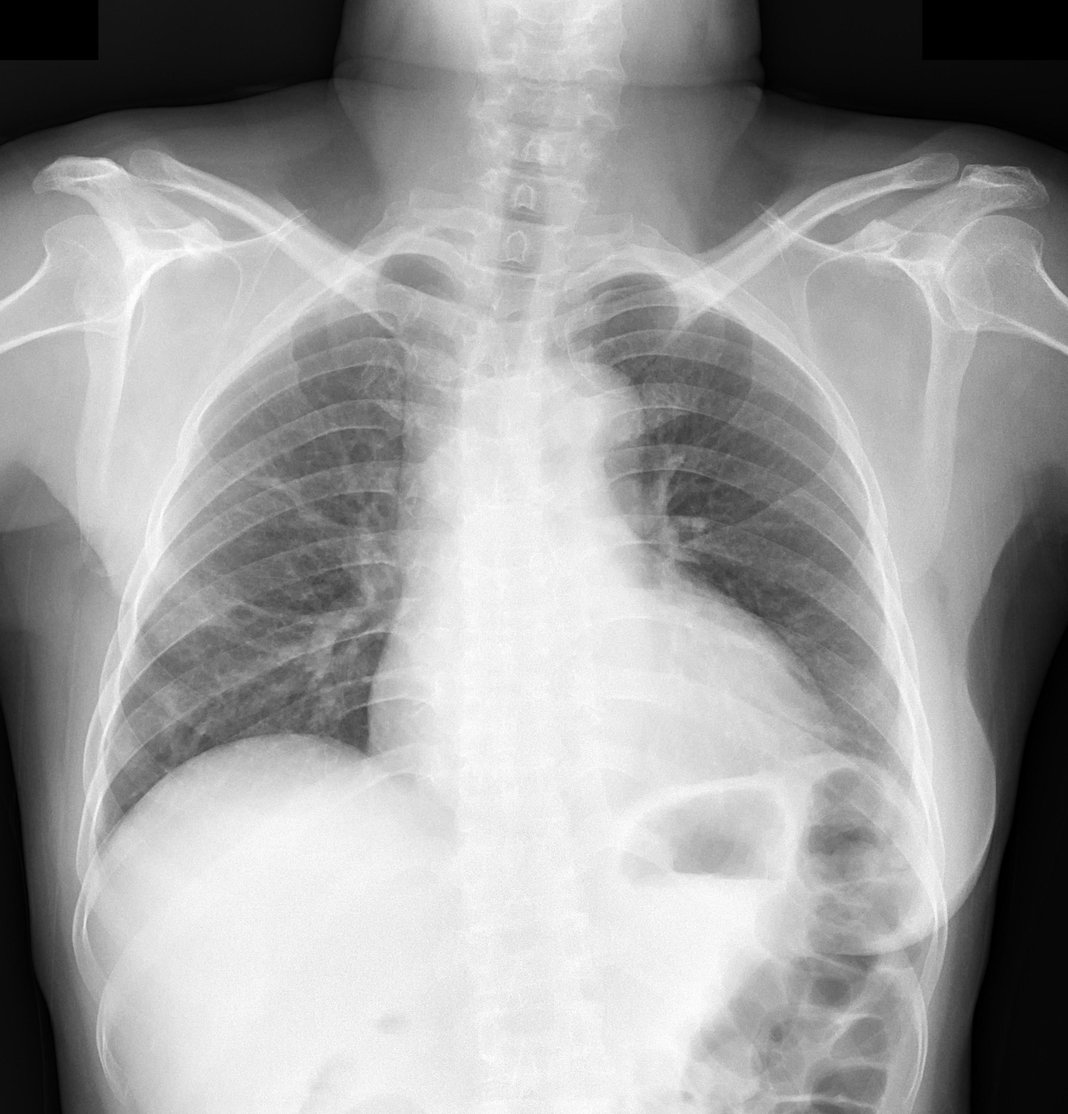Aortic enlargement: (517, 362, 642, 507)
Cardiomegaly: (365, 674, 837, 771)
